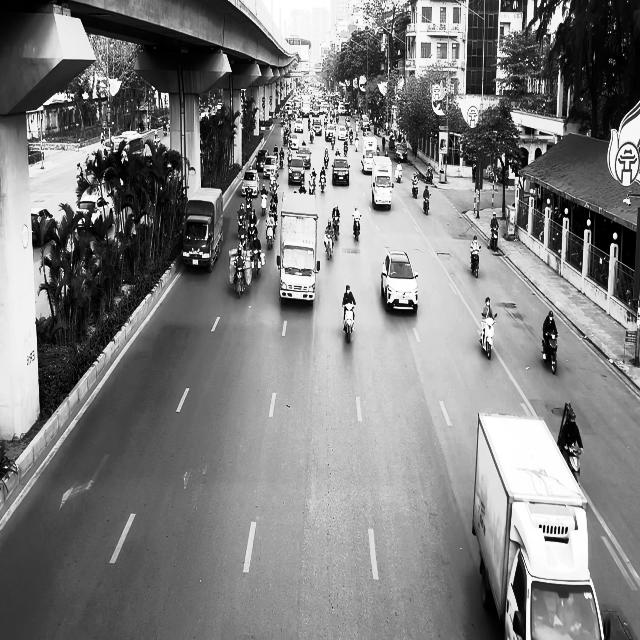bus: (182, 186, 224, 272)
car: (381, 249, 419, 313), (30, 207, 60, 246), (372, 173, 394, 209), (332, 157, 351, 186), (241, 169, 260, 197), (288, 156, 305, 185), (296, 145, 312, 168), (262, 156, 278, 178), (394, 142, 408, 162)
motorbike: (480, 312, 498, 359), (542, 330, 558, 374), (565, 442, 582, 480), (343, 303, 356, 343), (234, 261, 246, 298), (470, 246, 481, 278), (324, 228, 335, 260), (489, 226, 499, 252), (266, 224, 275, 250), (354, 215, 362, 241), (424, 192, 432, 215), (319, 173, 327, 192), (412, 179, 419, 198)
truck: (472, 412, 611, 640), (277, 190, 320, 304)
